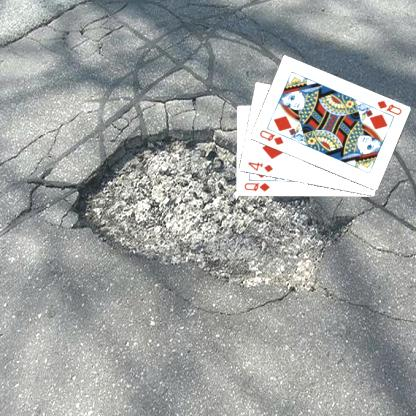4D: (245, 160, 274, 174)
QD: (256, 127, 284, 147), (374, 97, 402, 116), (241, 180, 271, 193)
